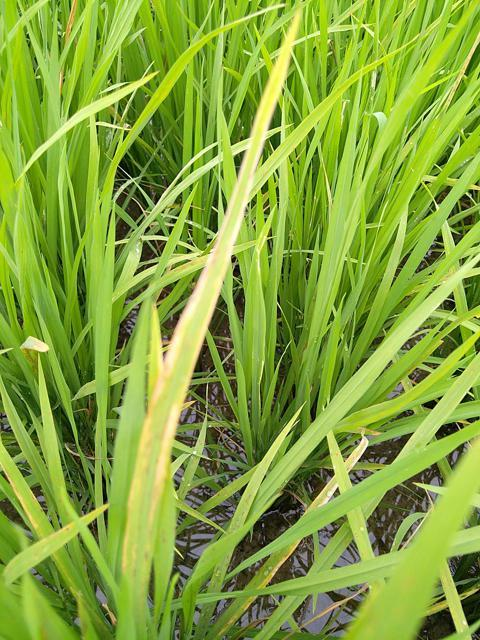Leaf Blight: (116, 5, 304, 639)
